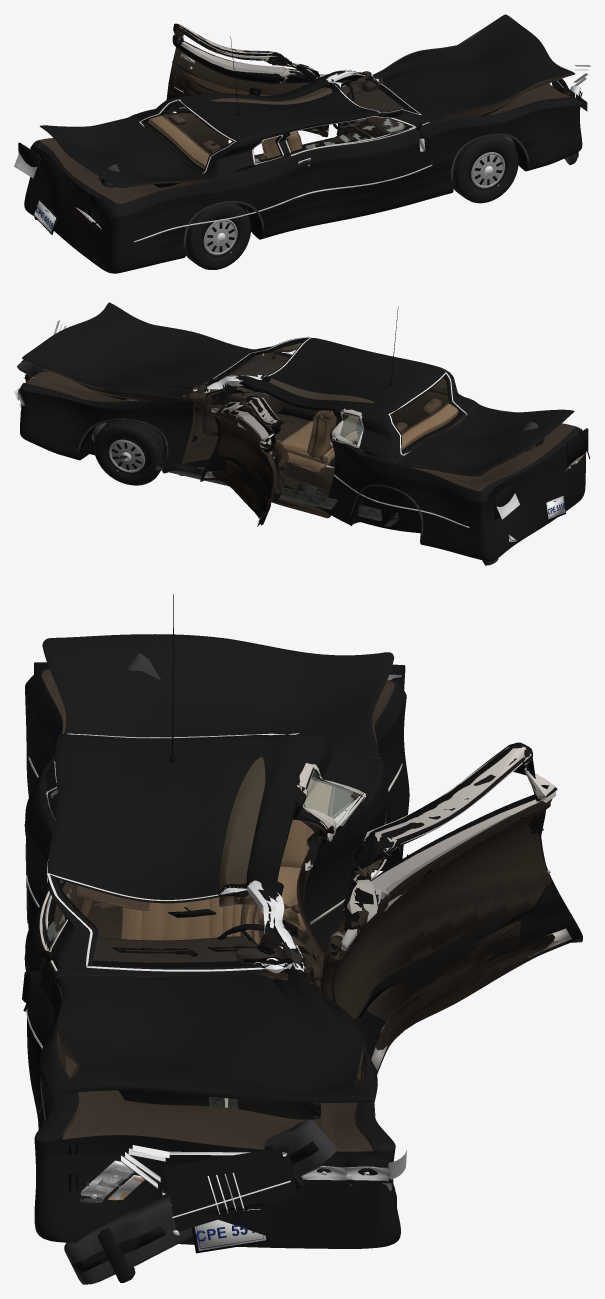
The model's file is coupe84_side_d3_lod1.glb.
The picture shows the model from 3 angles, top to bottom: view 1: azimuth 30°, elevation 25°; view 2: azimuth 150°, elevation 25°; view 3: azimuth 270°, elevation 25°; orthographic projection. The views are drawn at different scales.
Visible parts, largest first — view 1: Body, Hood, Door_FR, Trunk, Door_FL, Interior, Wheel_FR_mesh, Wheel_RR_mesh, Trim_FL, Ends, Trim, Trim_FR (+3 smaller); view 2: Body, Hood, Trunk, Interior, Door_FL, Wheel_FL_mesh, Trim_FL, Trim, Underbody, Ends, Glass, Door_FR; view 3: Body, Door_FL, Hood, Trunk, Ends, Interior, Trim_FL, Bumper_F, Glass, Door_FR, Trim, Trim_FR.
Part boxes in pixels (x1,y1,x2,y2): Body: (24,70,582,273); Hood: (374,14,575,123); Door_FR: (285,115,438,229); Trunk: (39,116,212,187); Door_FL: (166,23,328,137); Interior: (148,72,408,168); Wheel_FR_mesh: (453,136,518,203); Wheel_RR_mesh: (186,203,250,269); Trim_FL: (168,23,325,106); Ends: (14,65,590,234); Trim: (134,36,529,248); Trim_FR: (285,116,432,198); Body: (20,337,585,561); Hood: (22,302,252,401); Trunk: (395,404,574,476); Interior: (197,355,458,472); Door_FL: (200,396,283,526); Wheel_FL_mesh: (94,420,163,485); Trim_FL: (204,397,288,521); Trim: (77,307,469,535); Underbody: (118,441,517,541); Ends: (14,320,589,521); Glass: (193,336,466,455); Door_FR: (254,347,392,434); Body: (25,668,409,1248); Door_FL: (320,742,582,1074); Hood: (55,970,373,1102); Trunk: (42,634,394,762); Ends: (34,662,406,1253); Interior: (76,779,335,966); Trim_FL: (323,746,571,1070); Bumper_F: (64,1119,337,1284); Glass: (46,733,364,973); Door_FR: (25,841,83,1111); Trim: (24,594,402,1190); Trim_FR: (22,788,93,1048).
Size of the model in its own units: 5.36 by 1.98 by 2.49.
Materials: 34 (5 with a texture image).
